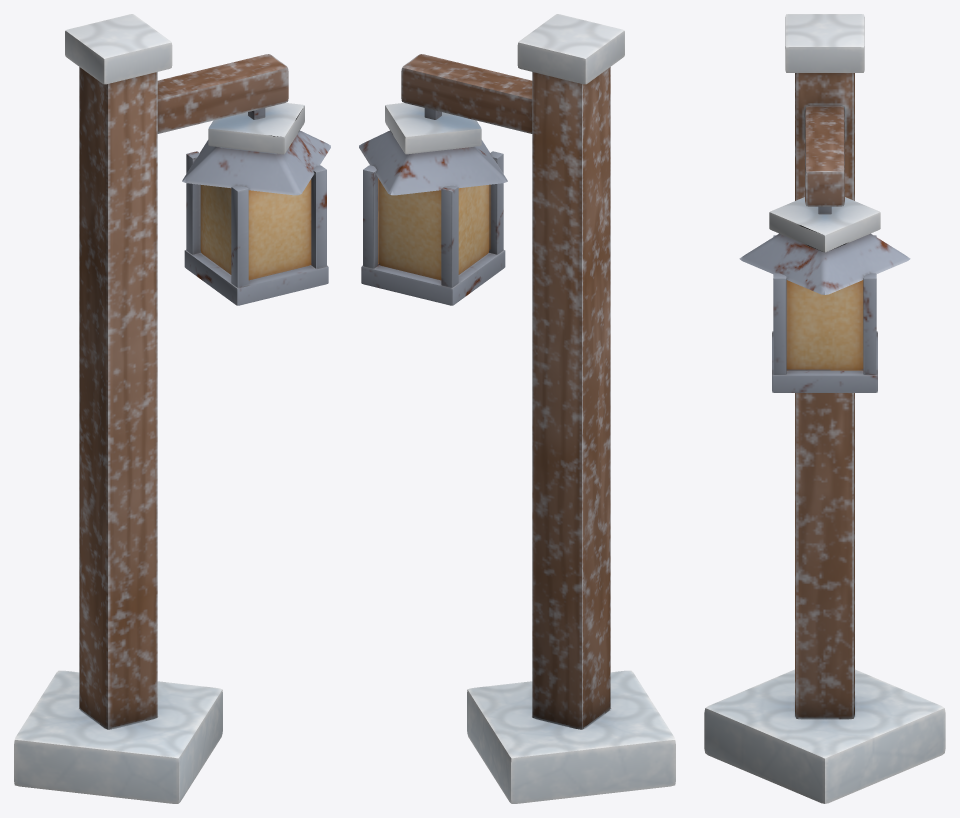
Rendered from Glace_Lanterne.fbx.
3 renders of one model, left to right at view 1: azimuth 30°, elevation 25°; view 2: azimuth 150°, elevation 25°; view 3: azimuth 270°, elevation 25°, orthographic.
Visible parts, largest first — view 1: Glace_Lanterne; view 2: Glace_Lanterne; view 3: Glace_Lanterne.
Part boxes in pixels (left/top/right/bottom): Glace_Lanterne: left=14, top=14, right=330, bottom=803; Glace_Lanterne: left=359, top=14, right=675, bottom=803; Glace_Lanterne: left=704, top=14, right=945, bottom=803.
Bounding box in the file's own units: 551 × 1205 × 363.
1 material, 1 textured.
